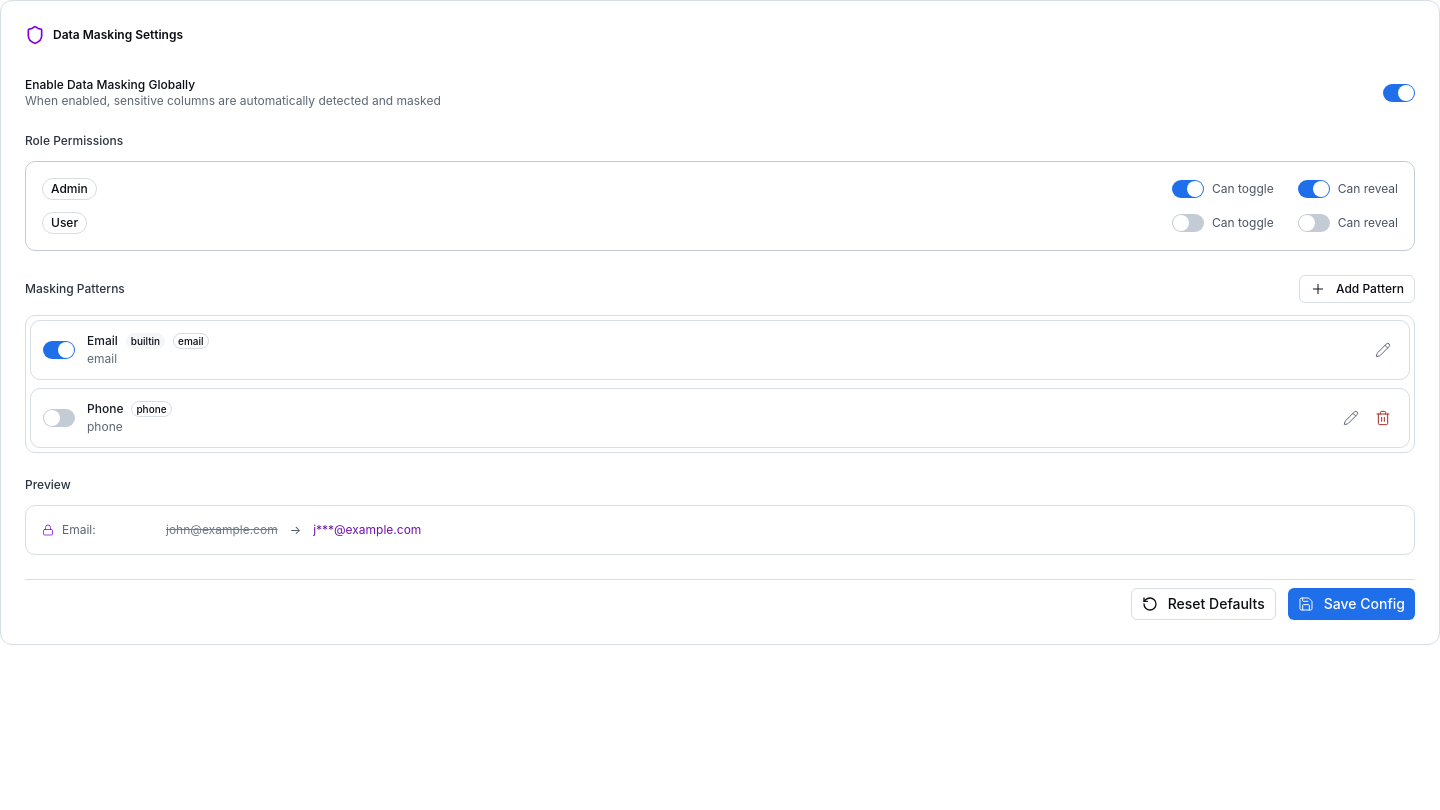
MaskingSettings › delete button only appears on non-builtin patterns and removes it
Click the 4th button at x=1383, y=418, box [1369,404,1397,432]
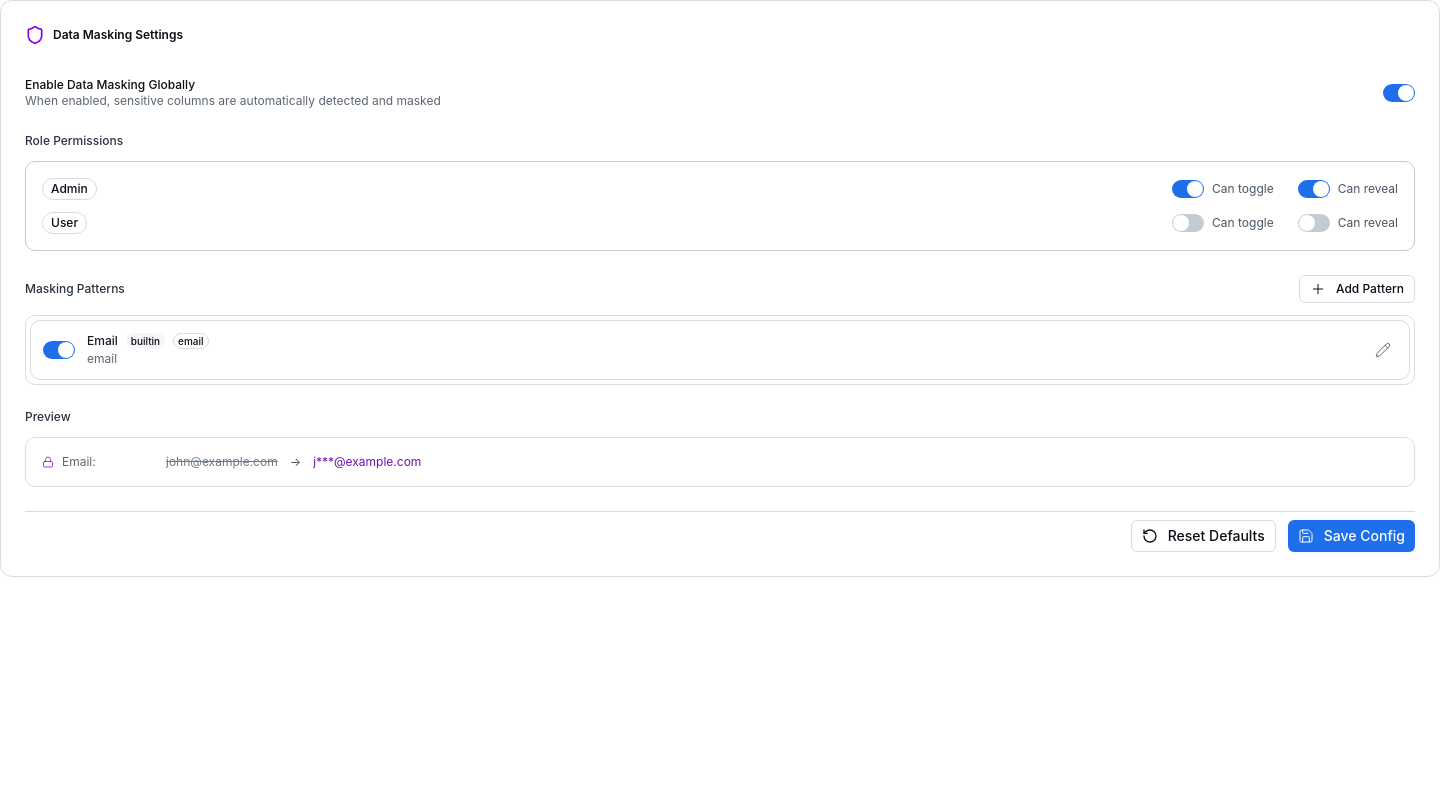
Expected: the text "Email" is shown, [87,333,118,349]
Now the text "Phone" is gone
